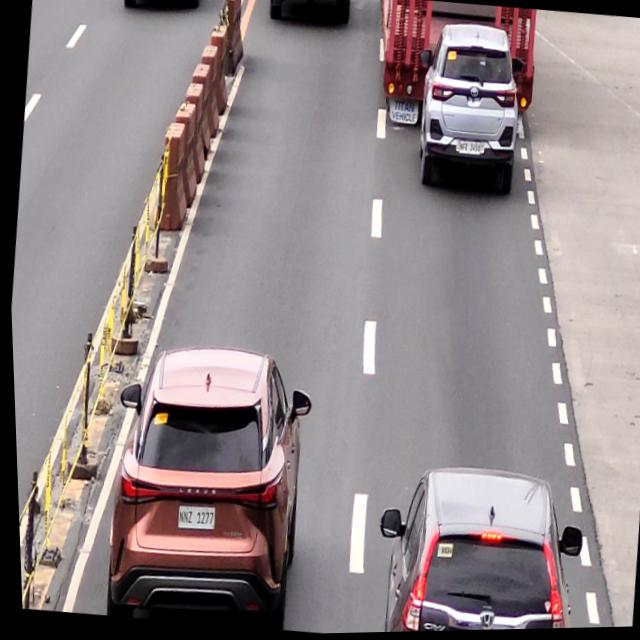Car: (91, 335, 319, 635), (362, 459, 587, 634), (403, 18, 531, 198)
License-Plate: (172, 506, 212, 531), (456, 141, 481, 157)
Truck: (366, 0, 541, 141)
